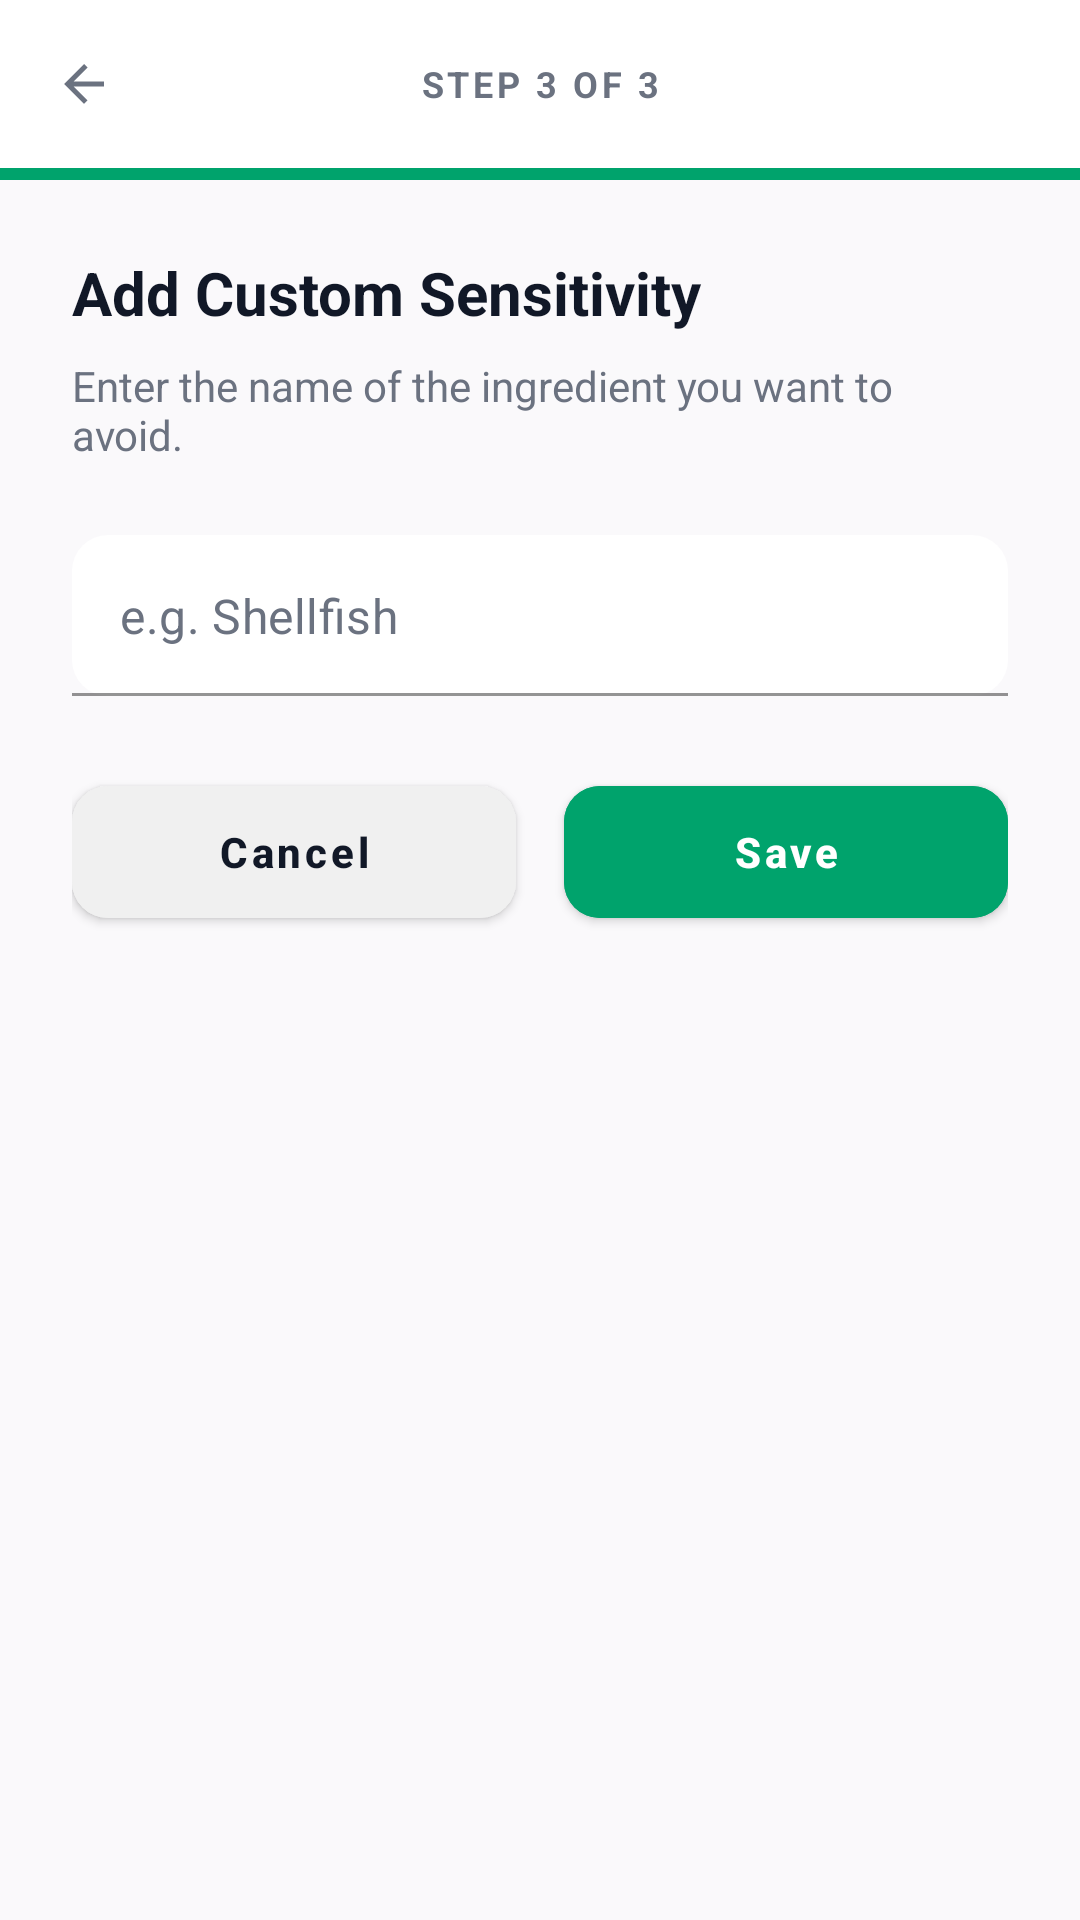

Locate icon controls on the screen. Image size 1080 × 1920, boxes as (x1, y1, x2, y2).
arrow back: (64, 64, 104, 104)
